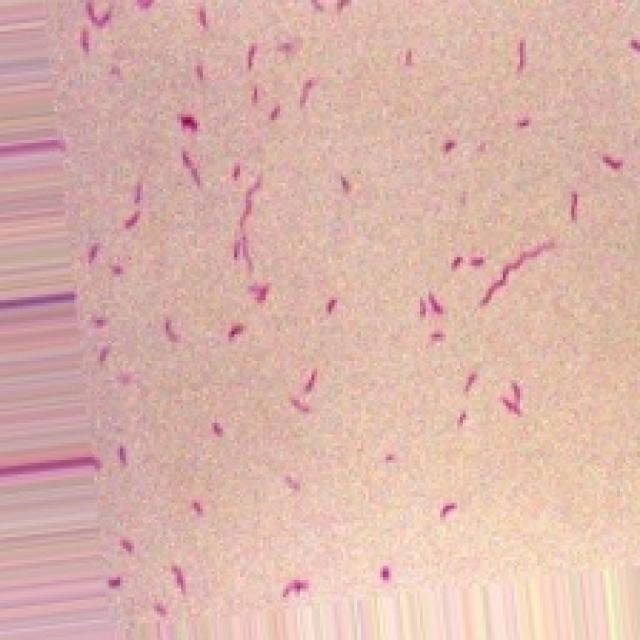Spiral_bacteria: (43, 0, 637, 637)
